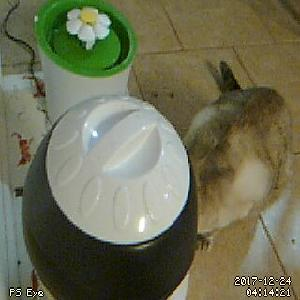cat: (177, 58, 296, 255)
fountain: (32, 1, 139, 80)
